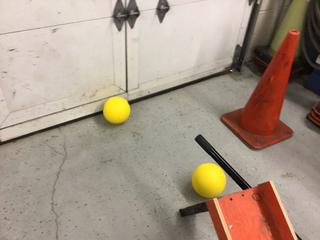power_cell: (191, 160, 229, 201), (100, 95, 132, 126)
